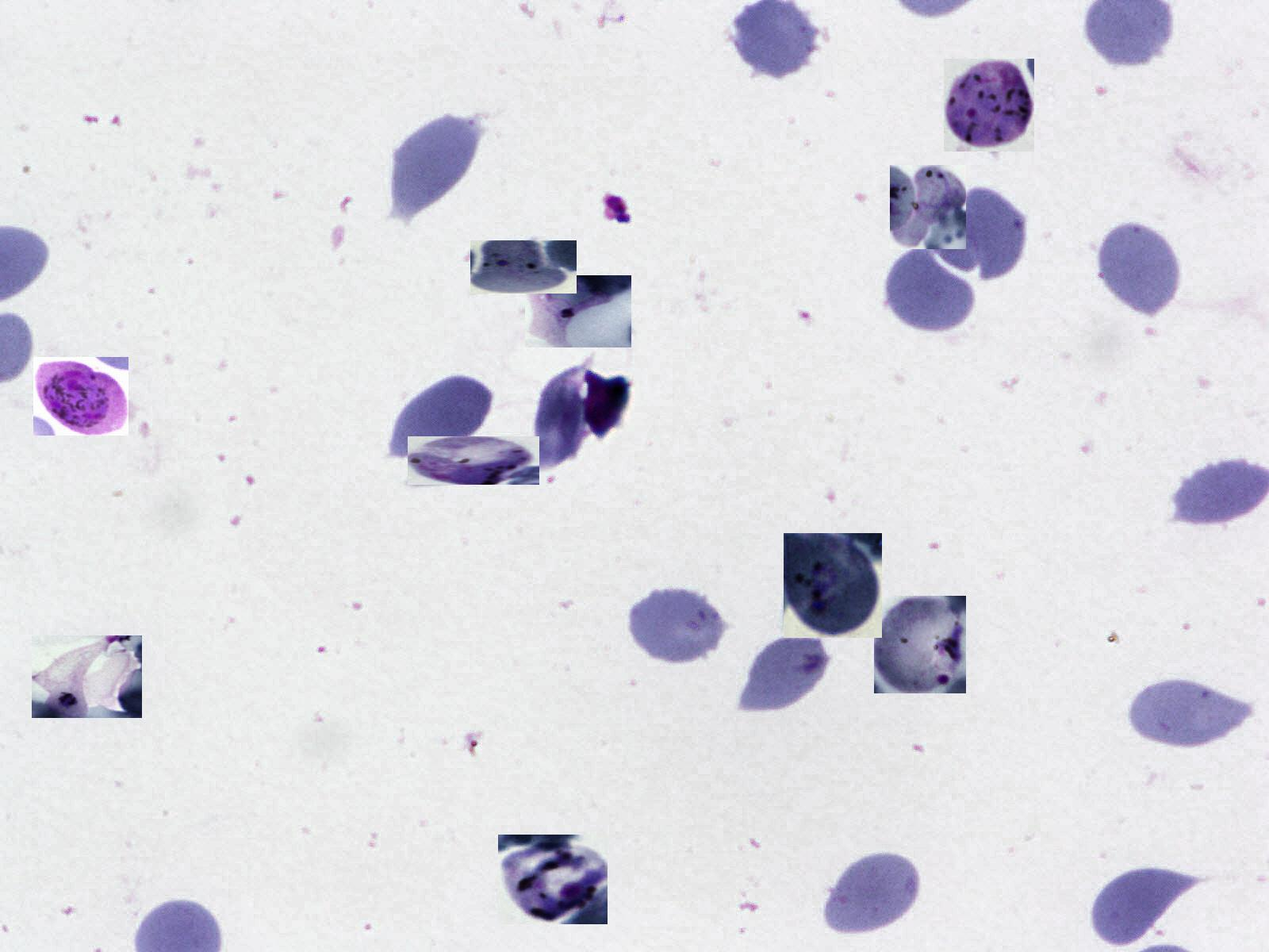Infected: (784, 533, 882, 638), (498, 835, 608, 924), (32, 635, 142, 718), (874, 597, 966, 694), (944, 59, 1034, 152), (525, 275, 631, 347), (34, 357, 128, 436), (408, 436, 539, 485), (890, 165, 966, 249), (470, 240, 577, 294)
Uninfected: (1119, 671, 1258, 753), (387, 107, 481, 214), (388, 371, 496, 460), (884, 240, 980, 337), (936, 183, 1029, 282), (1095, 217, 1183, 321), (822, 849, 922, 938), (626, 582, 728, 667), (1088, 864, 1190, 947), (739, 628, 835, 716), (532, 359, 590, 471)
